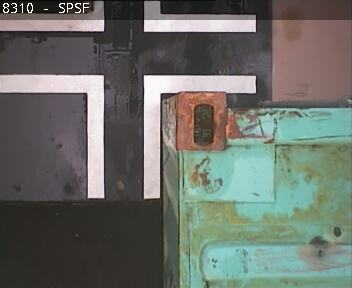groundmarker_1: (1, 72, 260, 200), (1, 1, 256, 33)
